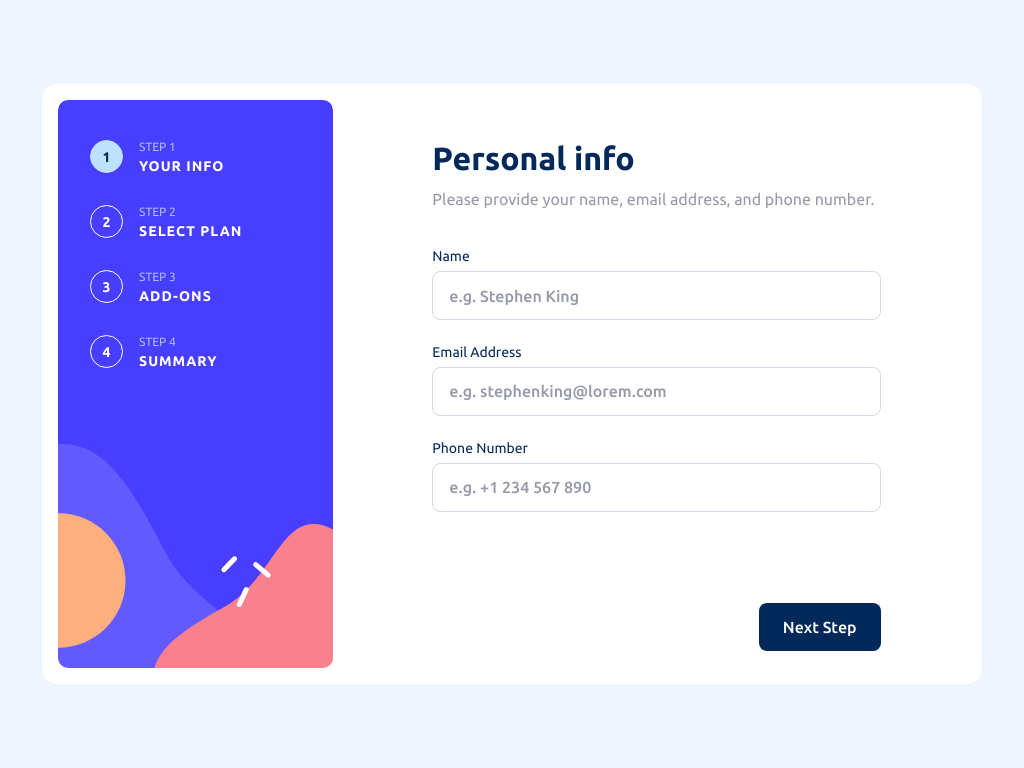
Test case: Personal info form section › email input should be required
Focus the field labelled "Email address" at (656, 392), box [432,367,880,416]
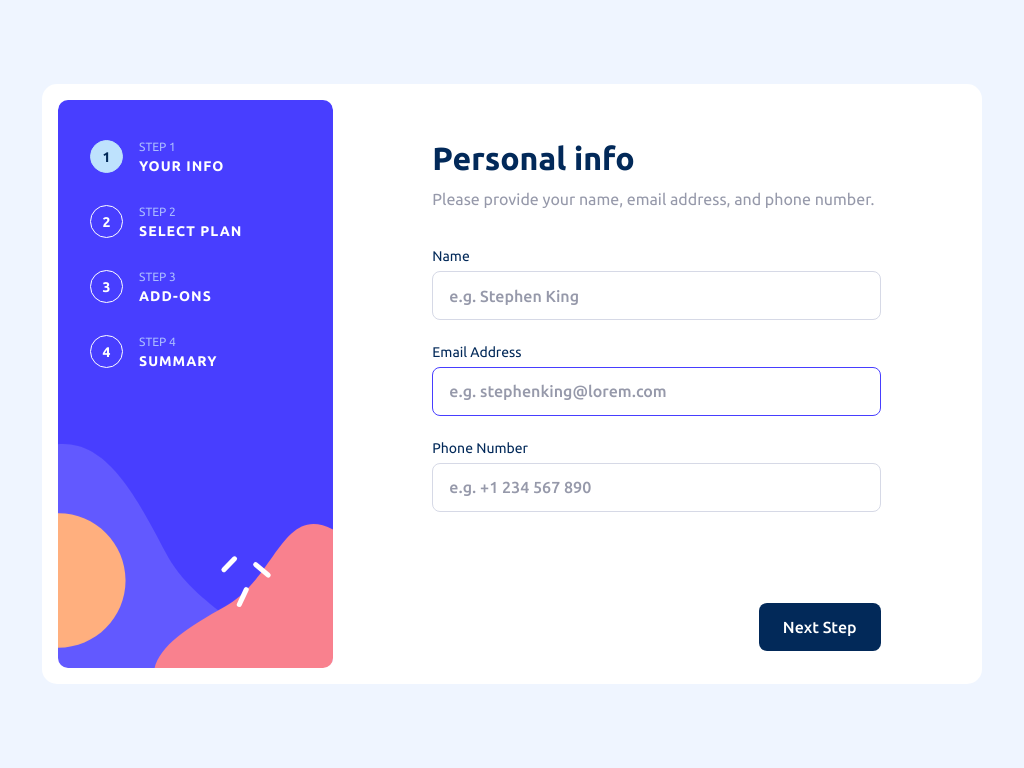
Click the button with test id "nextButton" at (820, 627), box [759,603,881,651]
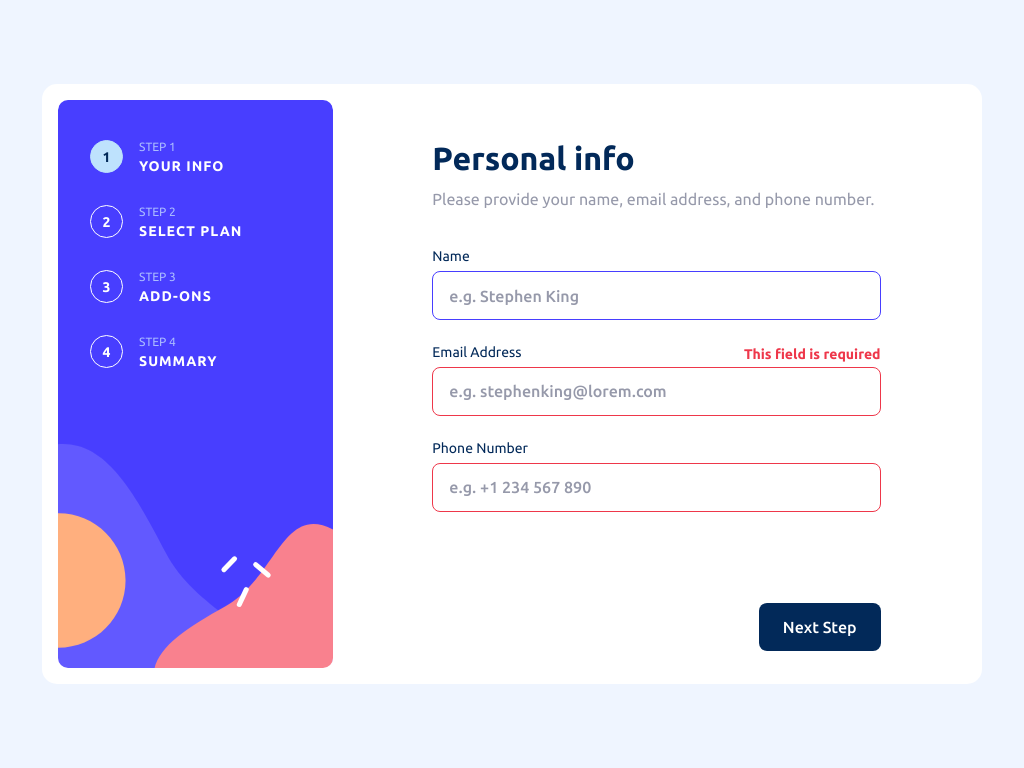
Expected: the text "This field is required" is shown, [744,344,881,365]
